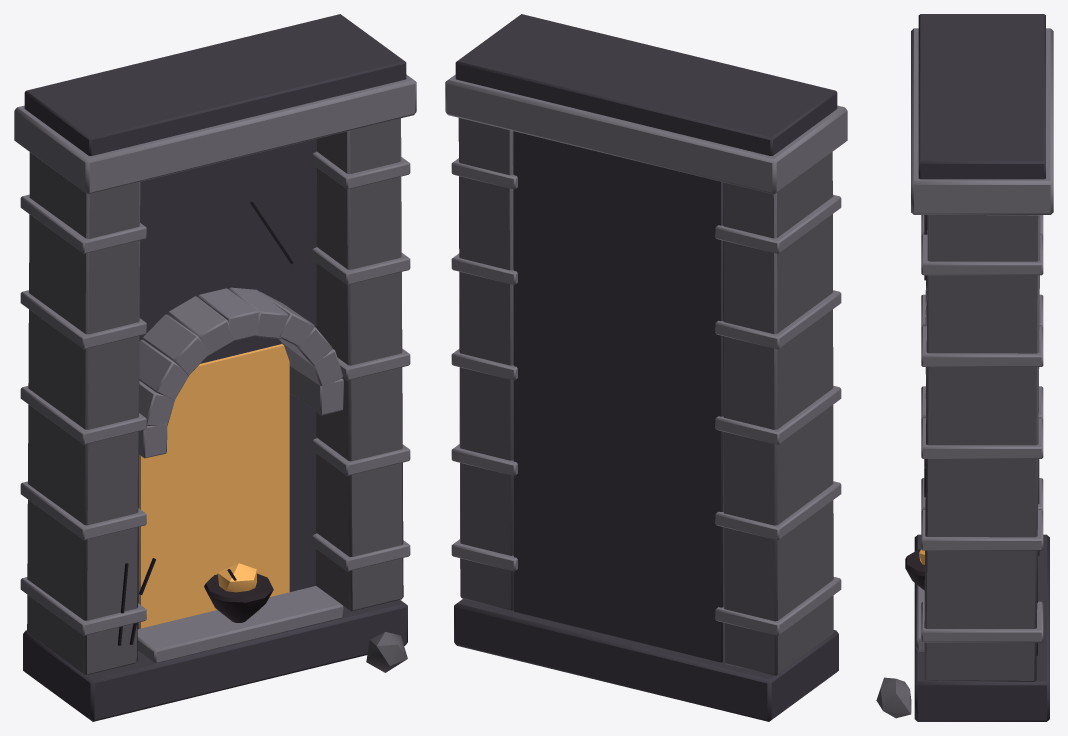
Rendered from chamber_wall.glb.
The picture shows the model from 3 angles, left to right: view 1: azimuth 30°, elevation 25°; view 2: azimuth 150°, elevation 25°; view 3: azimuth 270°, elevation 25°; orthographic projection. The views are drawn at different scales.
Visible parts, largest first — view 1: chamber_wall; view 2: chamber_wall; view 3: chamber_wall.
Part boxes in pixels (bbox=[...]): chamber_wall: bbox=[14, 14, 416, 721]; chamber_wall: bbox=[445, 14, 847, 721]; chamber_wall: bbox=[876, 14, 1053, 721].
Size of the model in its own units: 9.8 by 16.82 by 4.72.
